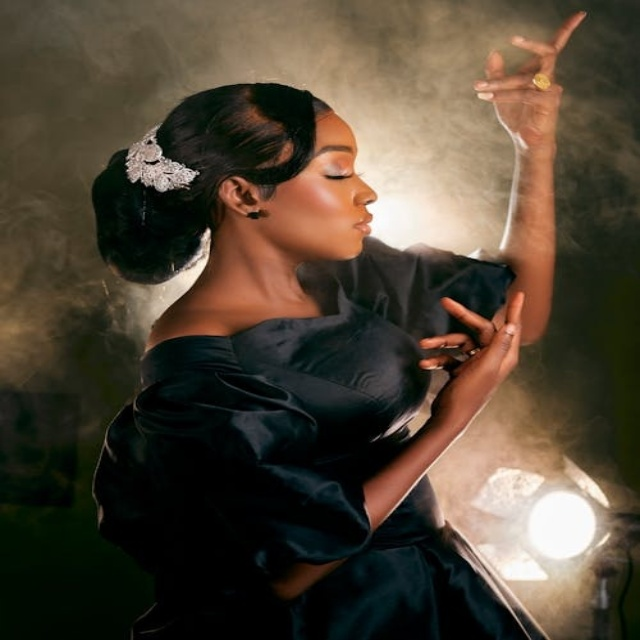Sin_gafas: (305, 144, 362, 188)
Sin_guantes: (416, 286, 534, 420), (470, 10, 581, 151)
Sin_mascara: (324, 207, 379, 256)
